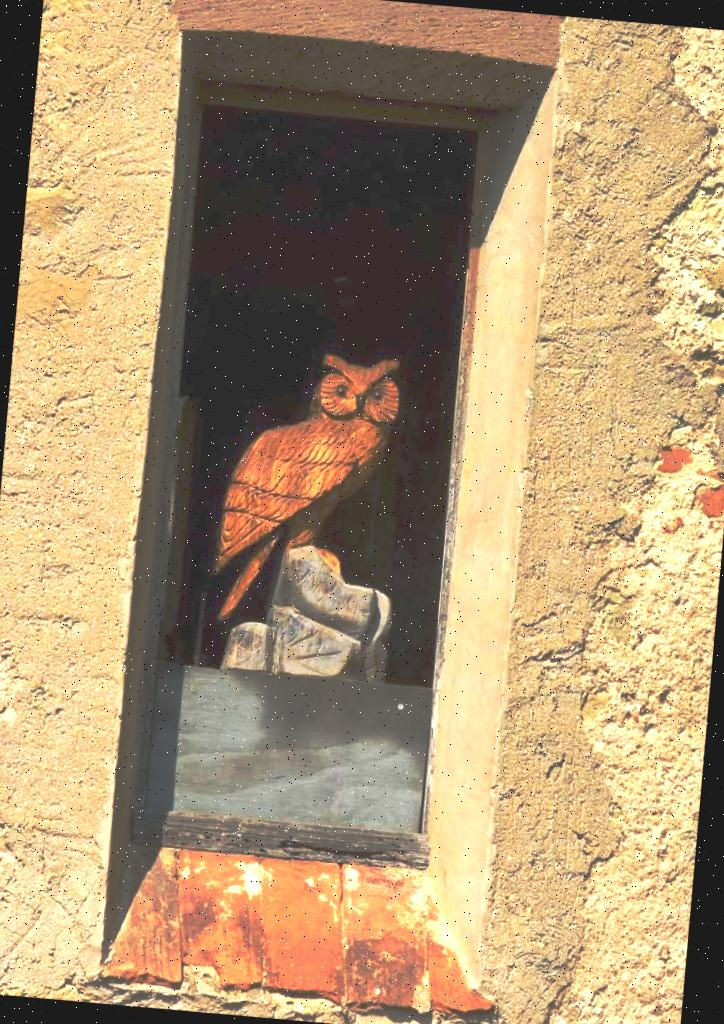Owl: (214, 348, 404, 638)
